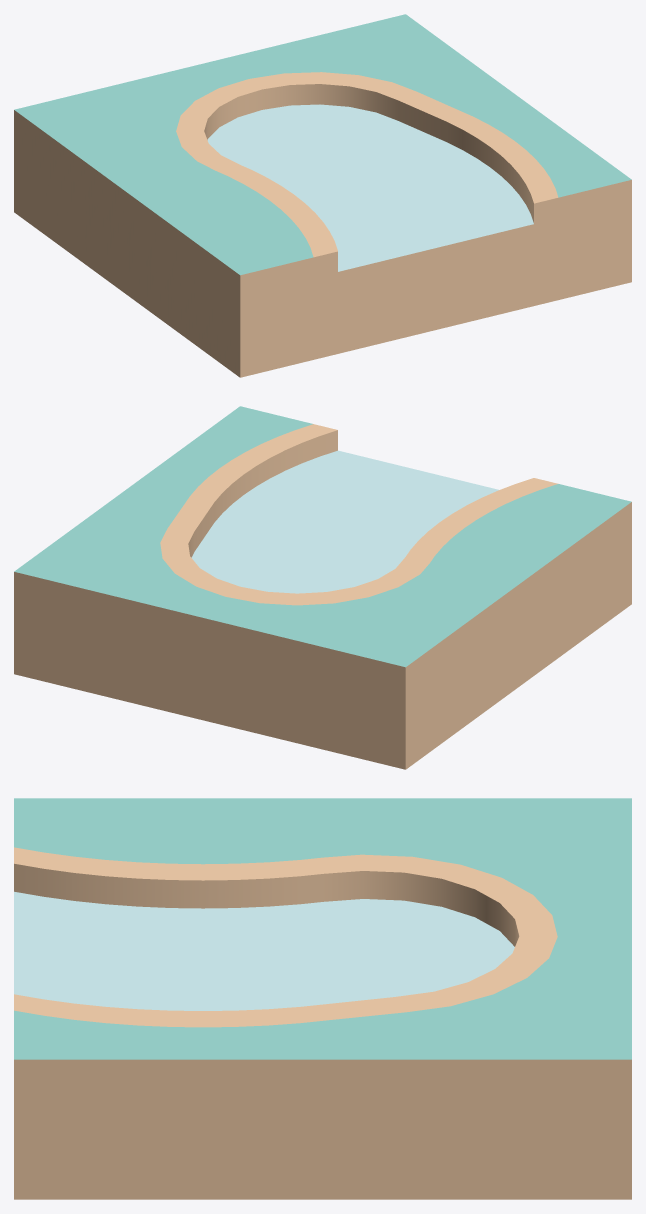
Rendered from ground_dirtRiverEnd.glb.
The picture shows the model from 3 angles, top to bottom: view 1: azimuth 30°, elevation 25°; view 2: azimuth 150°, elevation 25°; view 3: azimuth 270°, elevation 25°; orthographic projection. The views are drawn at different scales.
Parts seen in each view (by area): view 1: ground_dirtRiverEnd; view 2: ground_dirtRiverEnd; view 3: ground_dirtRiverEnd.
Part boxes in pixels (x1,y1,x2,y2): ground_dirtRiverEnd: (14,14,631,377); ground_dirtRiverEnd: (14,406,631,769); ground_dirtRiverEnd: (14,798,631,1199).
Size of the model in its own units: 1 by 0.25 by 1.
